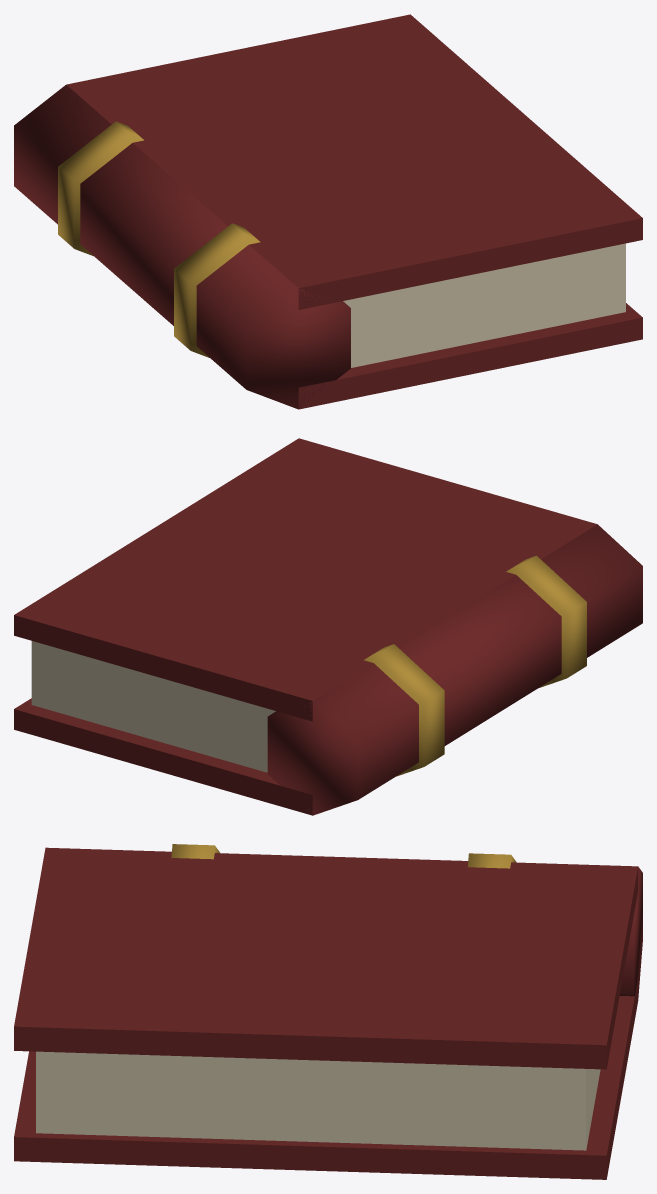
File: book.glb
The picture shows the model from 3 angles, top to bottom: view 1: azimuth 30°, elevation 25°; view 2: azimuth 150°, elevation 25°; view 3: azimuth 270°, elevation 25°; orthographic projection. The views are drawn at different scales.
Visible parts, largest first — view 1: book_v0; view 2: book_v0; view 3: book_v0.
Boxes of the visible parts, x1,y1,x2,y2 form: book_v0: [14, 14, 642, 409]; book_v0: [14, 438, 642, 815]; book_v0: [14, 844, 642, 1179].
Size of the model in its own units: 0.2505 by 0.078 by 0.2963.
